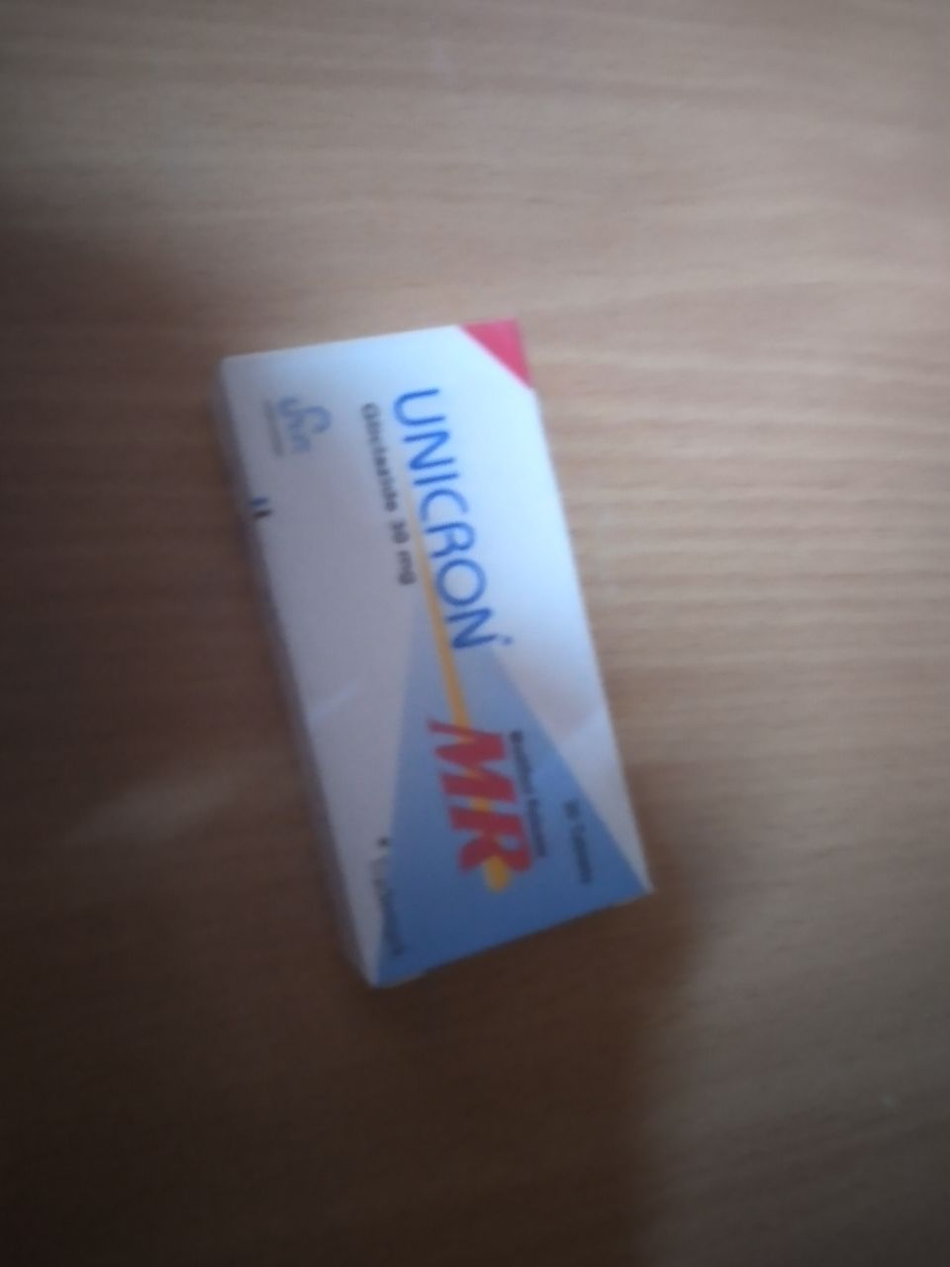Medicine: (201, 320, 673, 1000)
